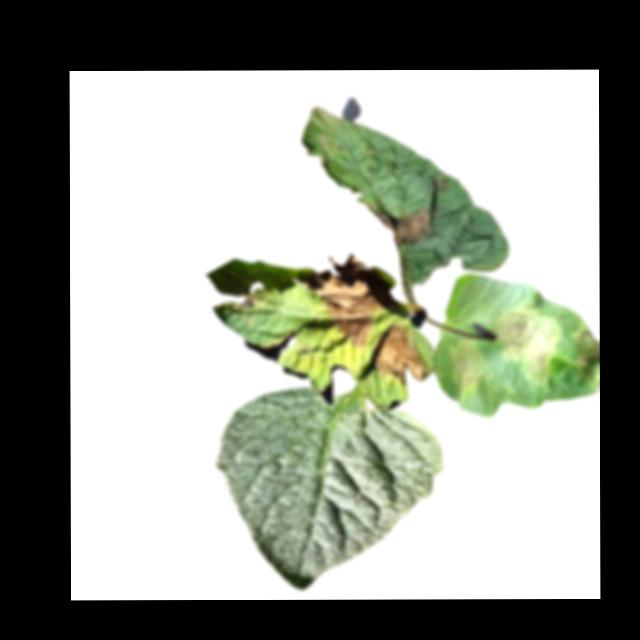Late_blight: (300, 255, 381, 349), (492, 305, 563, 384), (373, 321, 426, 387), (367, 204, 436, 246), (449, 336, 487, 394), (569, 325, 599, 380), (237, 292, 258, 308)
